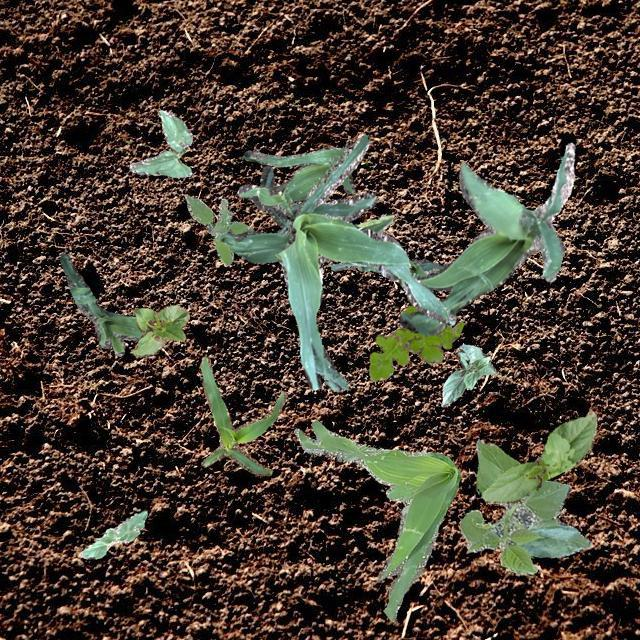crop: (236, 134, 454, 390), (398, 142, 574, 334), (458, 438, 590, 572), (220, 165, 392, 262), (480, 409, 596, 504), (200, 354, 286, 474), (59, 252, 142, 356), (238, 146, 354, 200), (128, 108, 192, 176), (440, 344, 496, 406), (77, 510, 146, 558), (130, 304, 188, 356), (330, 258, 446, 276)
weed: (292, 420, 460, 620), (368, 304, 462, 381), (185, 194, 253, 264)
